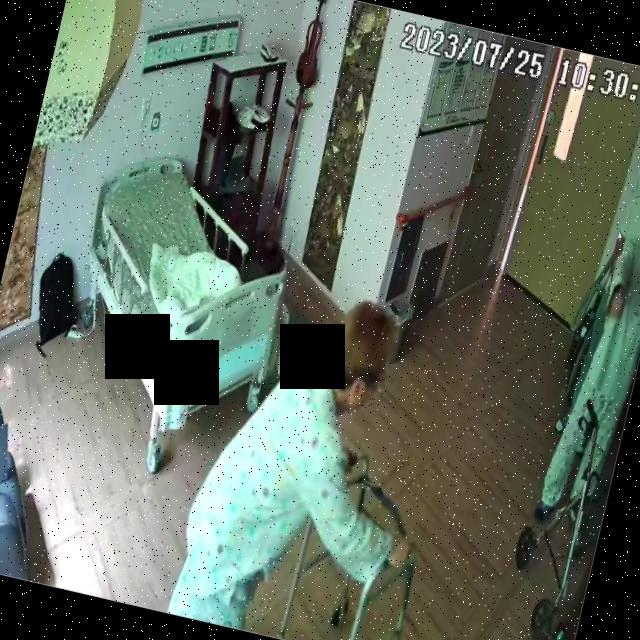bed: (49, 150, 308, 455)
patient: (165, 274, 458, 640), (532, 172, 640, 533)
